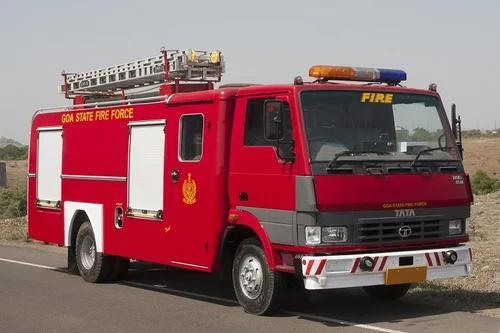Fire-engine: (26, 50, 474, 316), (310, 64, 409, 89), (176, 168, 204, 208), (94, 105, 136, 122), (356, 90, 396, 106)
